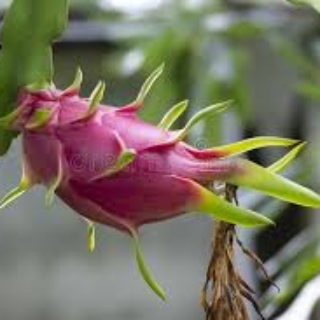thanh_long: (14, 81, 215, 231)
